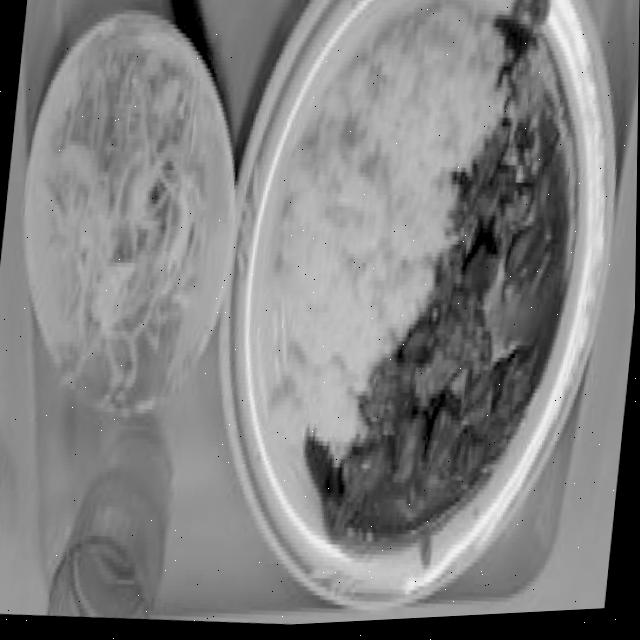牛肉菜式: (189, 0, 640, 631)
蔬菜料理: (0, 0, 262, 436)
